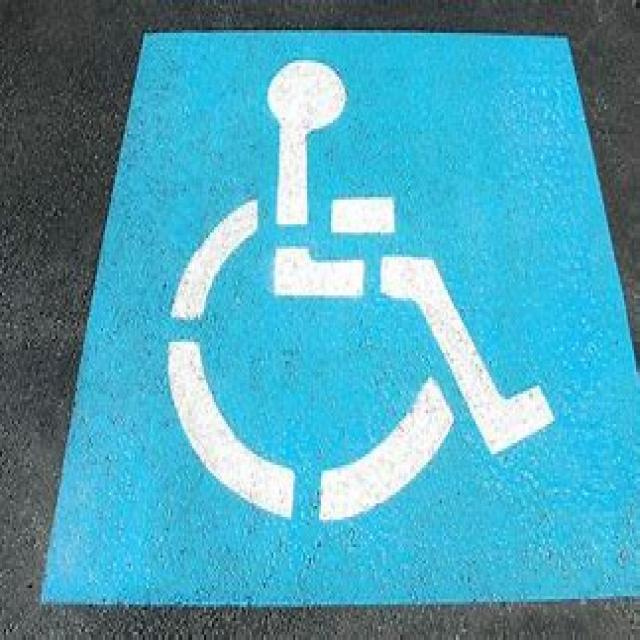symbol_of_access: (166, 58, 558, 524)
